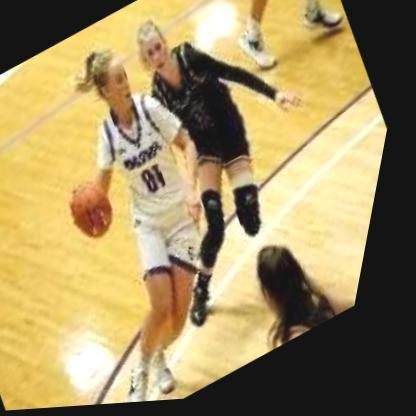basketball: (62, 170, 142, 253)
